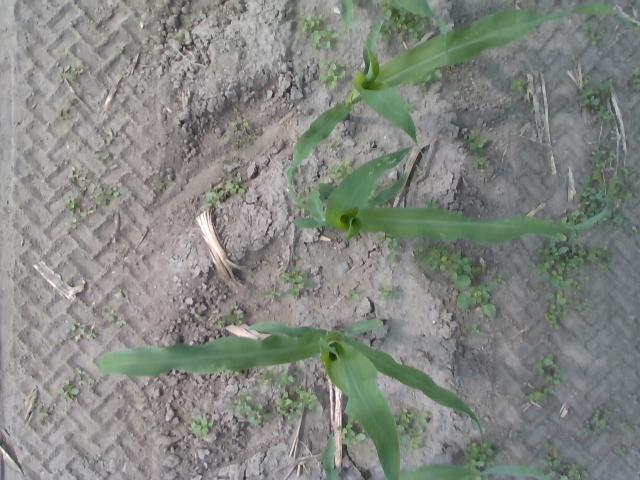Maize: (287, 4, 639, 211), (97, 319, 483, 480), (290, 146, 617, 244), (320, 433, 550, 480), (340, 0, 448, 60)
Weeds: (563, 144, 640, 238), (411, 242, 496, 320), (534, 248, 612, 289), (228, 392, 272, 426), (578, 77, 612, 120), (546, 290, 572, 328), (394, 14, 426, 40), (550, 234, 582, 252), (189, 415, 214, 437), (466, 442, 494, 461), (320, 70, 345, 90), (58, 380, 78, 402), (276, 366, 294, 390), (396, 408, 414, 431), (206, 184, 226, 204), (320, 25, 338, 47), (255, 370, 278, 387), (90, 184, 108, 205), (468, 134, 488, 152), (288, 282, 312, 296), (300, 391, 317, 410), (590, 414, 606, 434), (402, 436, 422, 452), (288, 400, 303, 420), (342, 432, 366, 444), (298, 14, 314, 32), (280, 268, 300, 282), (574, 299, 592, 313), (322, 58, 343, 70), (599, 81, 613, 97), (630, 68, 640, 90), (39, 407, 50, 426), (59, 65, 70, 84), (474, 156, 491, 168), (276, 392, 293, 404), (227, 182, 244, 194), (66, 217, 80, 231), (74, 324, 86, 340), (528, 390, 543, 402), (106, 129, 118, 144), (224, 308, 234, 325), (467, 460, 484, 470), (414, 412, 428, 424), (621, 422, 636, 433), (420, 75, 430, 91), (382, 2, 392, 18), (511, 79, 523, 92), (290, 382, 302, 395), (378, 234, 391, 246), (378, 288, 392, 299), (542, 459, 561, 467), (424, 198, 439, 208), (276, 406, 286, 421), (590, 33, 602, 45), (85, 328, 97, 340), (103, 310, 115, 322), (106, 188, 122, 197), (266, 288, 280, 298), (342, 159, 352, 173), (70, 206, 84, 216), (337, 424, 352, 433), (548, 373, 560, 384), (494, 274, 506, 285), (65, 196, 76, 208), (331, 165, 341, 178), (381, 26, 390, 40), (576, 471, 590, 480), (540, 354, 552, 364), (59, 108, 71, 118), (568, 464, 578, 476), (582, 22, 590, 36), (310, 31, 318, 45), (348, 289, 359, 299), (387, 252, 396, 264), (225, 370, 240, 377), (216, 320, 226, 330), (76, 368, 85, 379), (78, 378, 94, 384), (545, 442, 557, 450), (470, 324, 480, 333), (233, 314, 243, 323), (68, 171, 78, 180), (543, 385, 554, 393), (553, 364, 564, 372), (172, 33, 184, 40), (414, 426, 424, 434), (66, 324, 76, 332), (114, 290, 124, 298), (330, 140, 340, 148), (554, 450, 564, 458), (115, 320, 126, 327), (620, 446, 628, 455), (102, 152, 110, 161), (405, 100, 414, 108), (68, 98, 77, 106), (534, 362, 542, 370), (560, 464, 570, 470), (558, 474, 568, 480), (242, 119, 250, 126), (80, 175, 88, 182), (230, 122, 236, 131), (434, 68, 440, 76), (70, 72, 76, 80), (486, 460, 494, 466), (550, 468, 556, 476), (595, 406, 602, 412), (276, 261, 282, 268), (223, 288, 227, 298), (72, 68, 82, 72), (158, 182, 164, 188), (195, 313, 201, 319), (245, 313, 251, 319), (316, 13, 320, 22), (545, 456, 552, 461), (586, 420, 590, 428), (461, 326, 466, 332), (232, 304, 239, 308), (605, 410, 611, 412)
